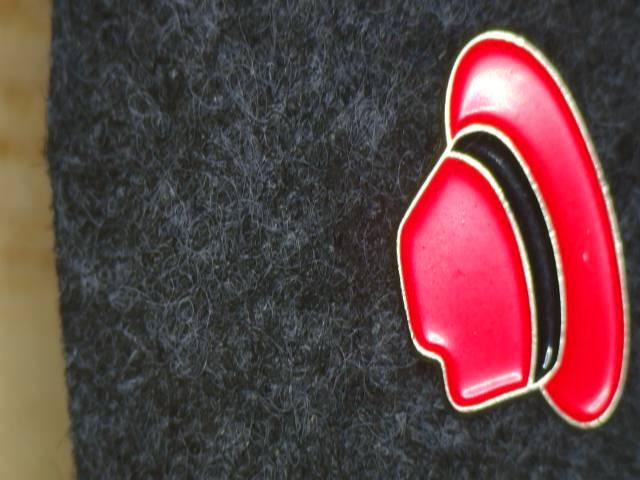Red-Hat: (372, 7, 640, 451)
